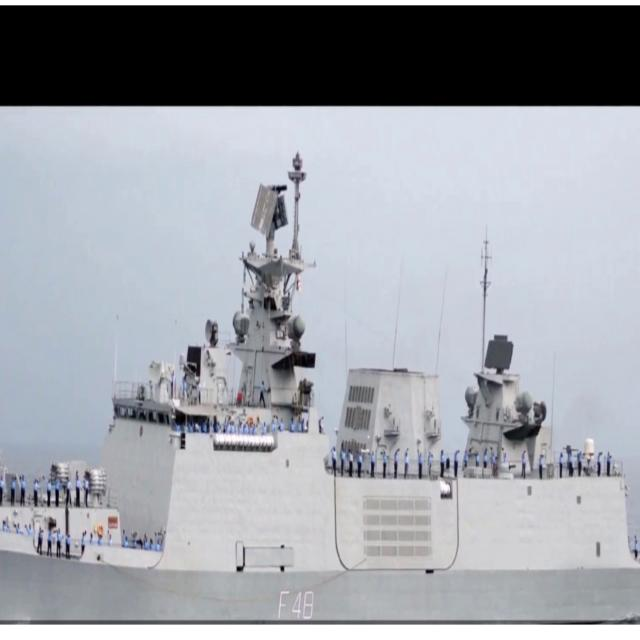OCR: (269, 585, 321, 622)
